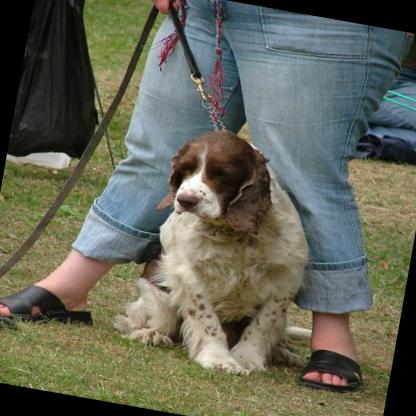English_springer: (107, 114, 327, 383)
